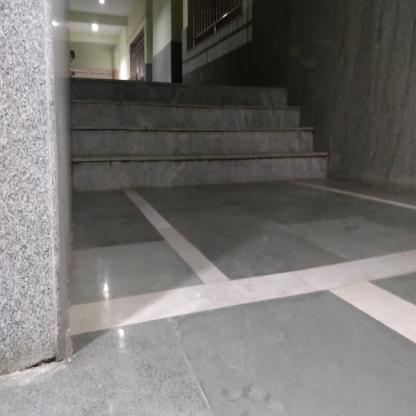stairs: (74, 78, 285, 193)
